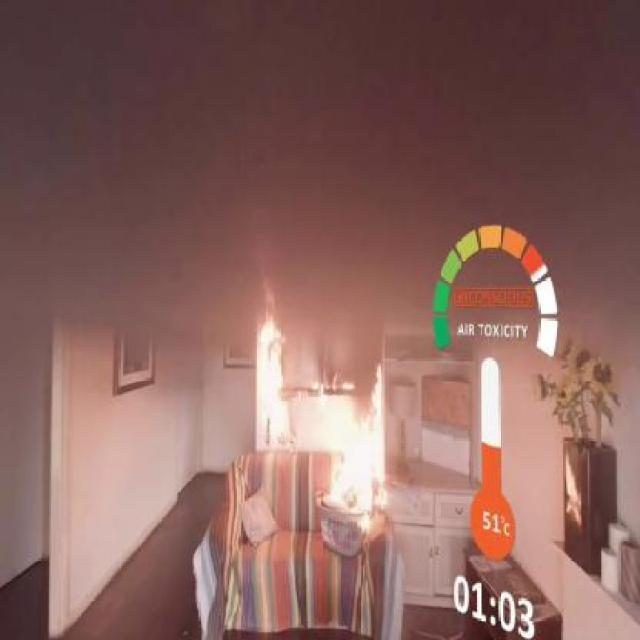fire: (243, 304, 406, 568)
smoke: (62, 16, 458, 292)
